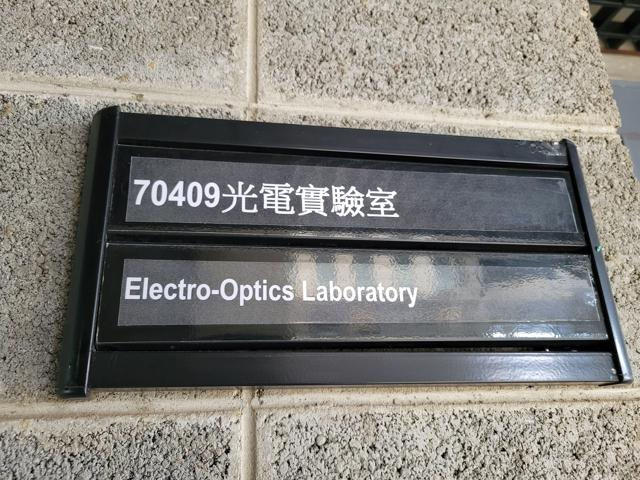doorplate: (51, 96, 633, 391)
